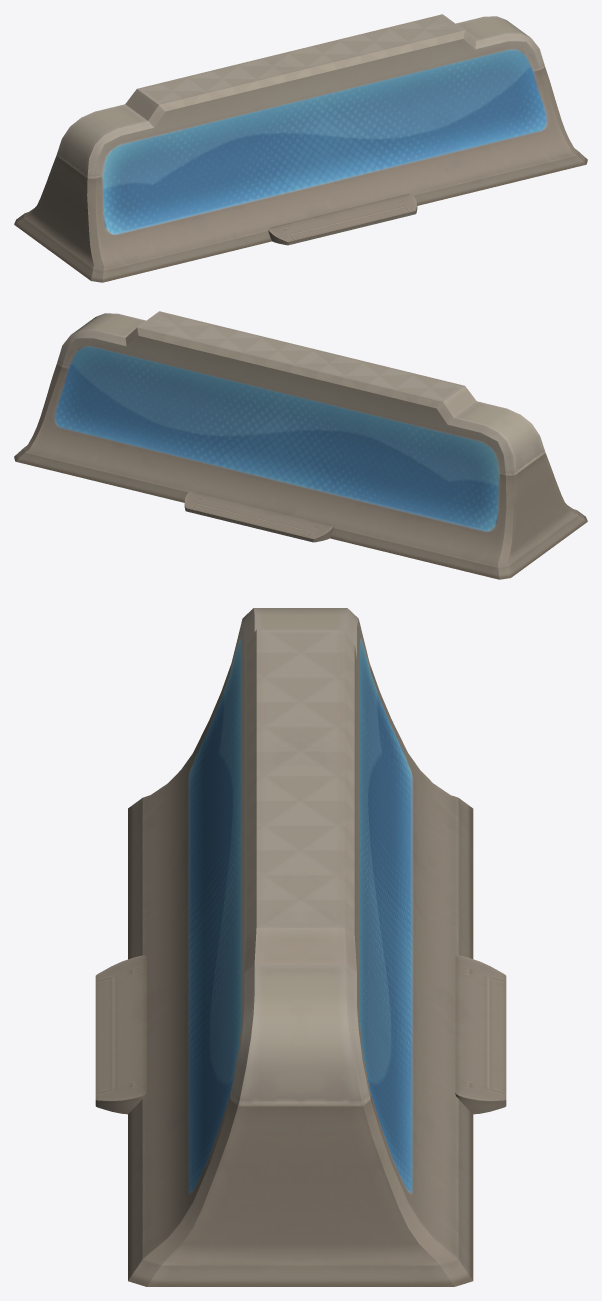
File: pref_sm_beach_techobstacle07a_lv3.fbx
The picture shows the model from 3 angles, top to bottom: view 1: azimuth 30°, elevation 25°; view 2: azimuth 150°, elevation 25°; view 3: azimuth 270°, elevation 25°; orthographic projection. The views are drawn at different scales.
Visible parts, largest first — view 1: pref_sm_beach_techobstacle07a_lv3; view 2: pref_sm_beach_techobstacle07a_lv3; view 3: pref_sm_beach_techobstacle07a_lv3.
Part boxes in pixels (x1,y1,x2,y2): pref_sm_beach_techobstacle07a_lv3: (14, 14, 587, 282); pref_sm_beach_techobstacle07a_lv3: (14, 311, 587, 579); pref_sm_beach_techobstacle07a_lv3: (95, 608, 506, 1286).
Bounding box in the file's own units: 7.09 × 1.81 × 2.54.
